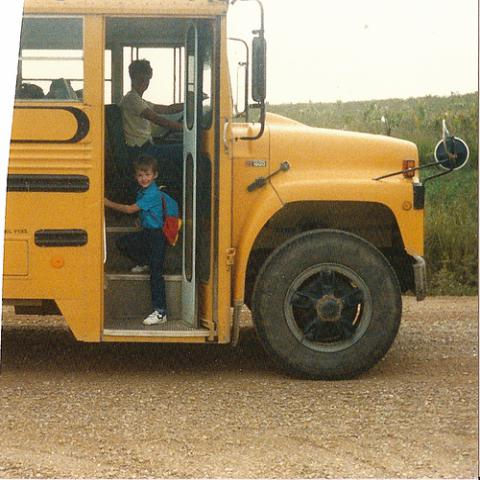bus: (3, 2, 468, 380)
